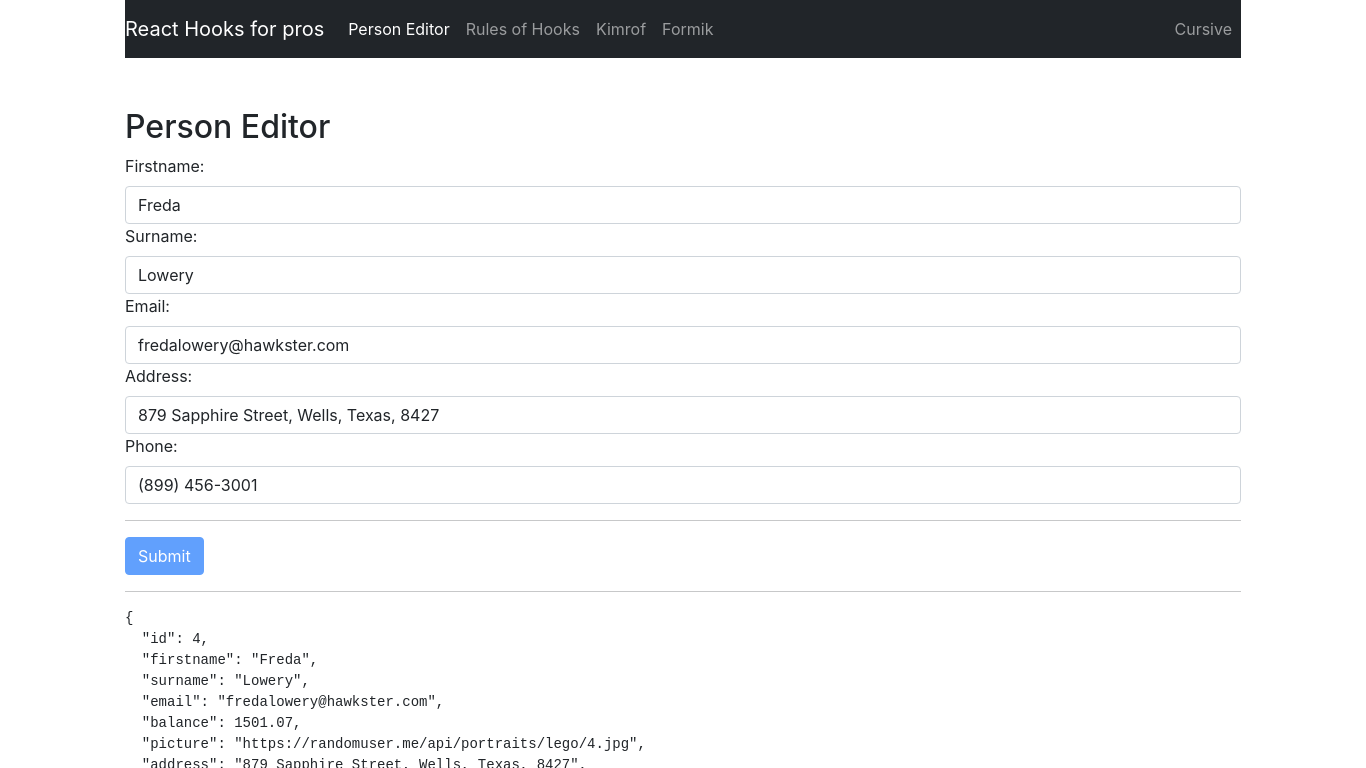
Test: The Person Editor › Is back to default after a reload when IndexedDB is cleared
expect the text "\"firstname\": \"Freda\"," is shown: met, box [125, 610, 646, 767]
Replace the text in the field below "Firstname:" with "Ford" at (683, 205), box [125, 186, 1241, 224]
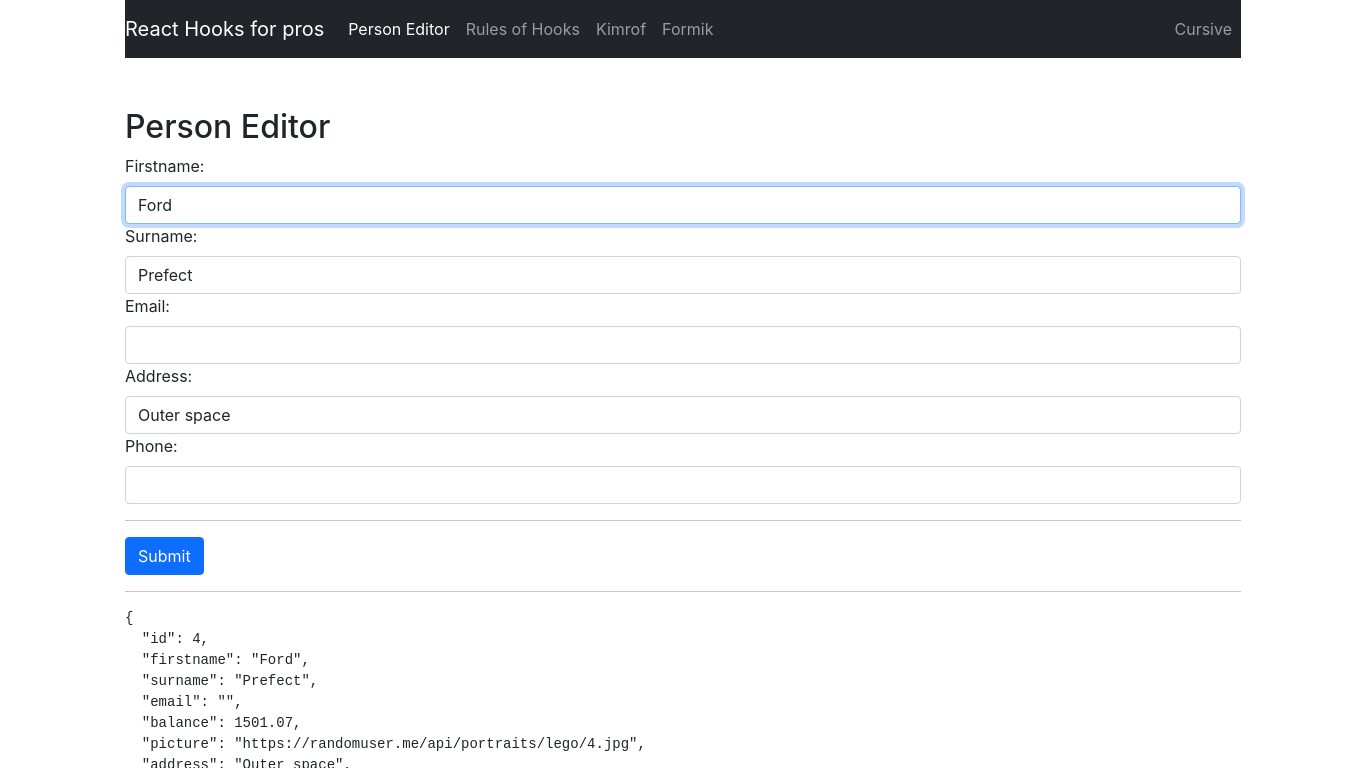
expect the text "\"firstname\": \"Ford\"," is shown: met, box [125, 610, 646, 767]
Open "/person-editor"
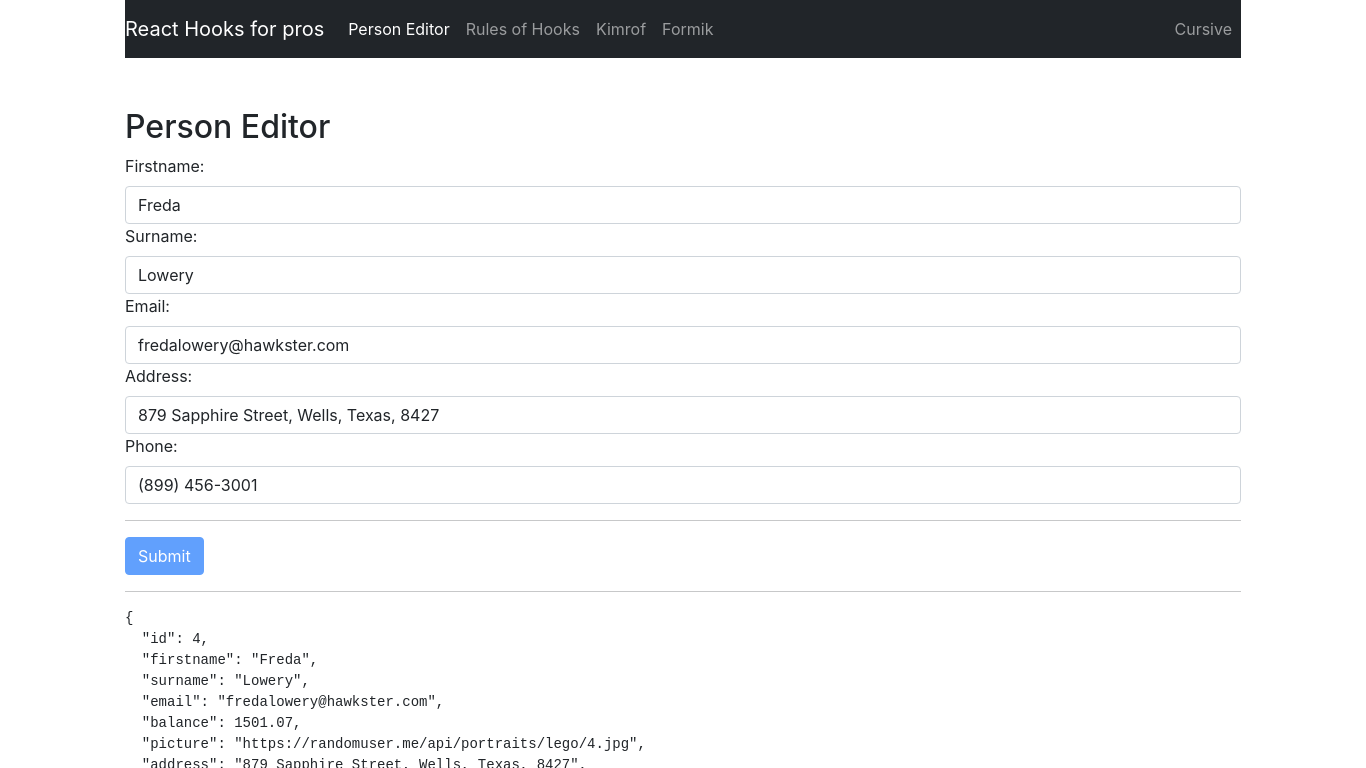
expect the text "\"firstname\": \"Freda\"," is shown: met, box [125, 610, 646, 767]
